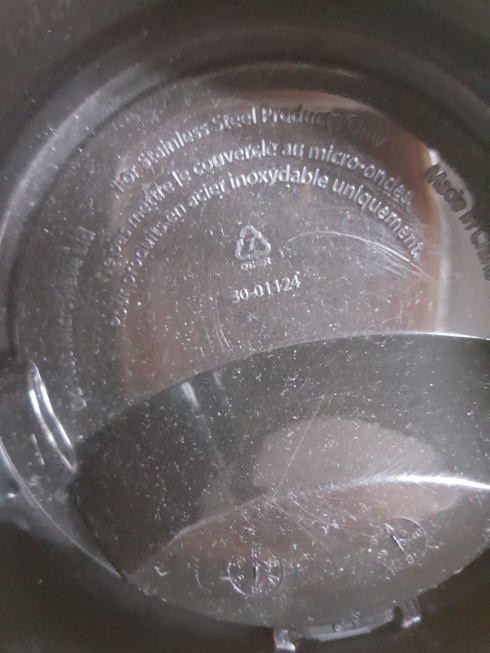recycle: (228, 220, 284, 272)
